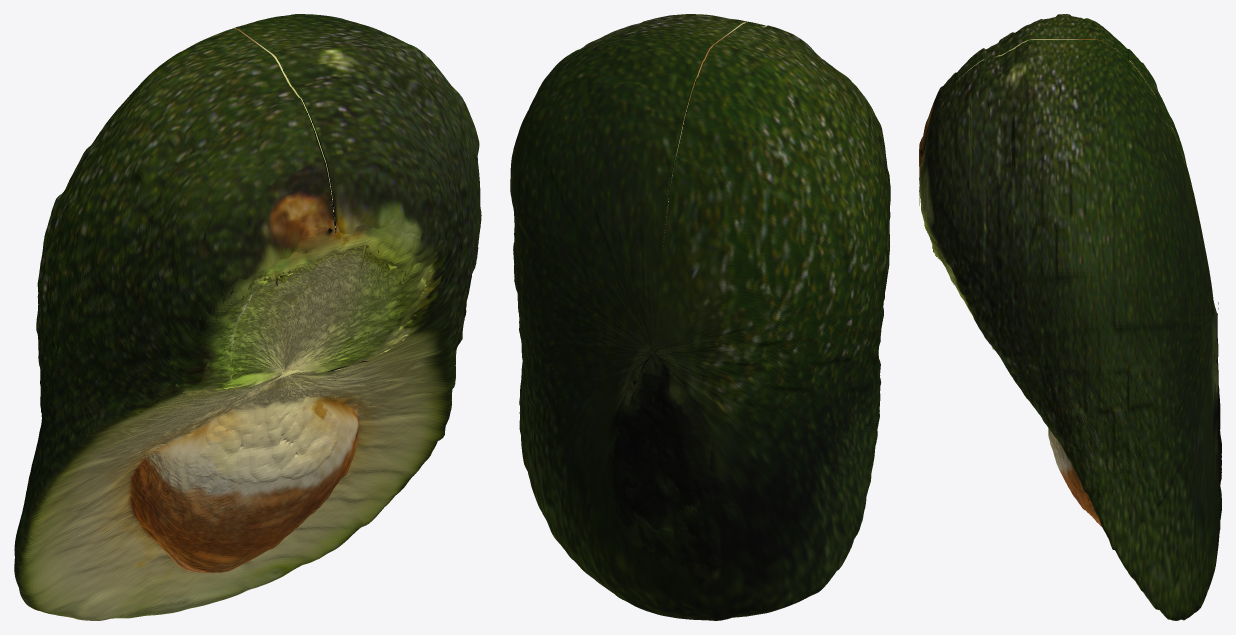
File: mesh_inpaint.glb
3 views of the same model, side by side, from view 1: azimuth 30°, elevation 25°; view 2: azimuth 150°, elevation 25°; view 3: azimuth 270°, elevation 25° (orthographic). The views are drawn at different scales.
Parts seen in each view (by area): view 1: ipn, fill; view 2: ipn, fill; view 3: ipn, fill.
Boxes of the visible parts, <box> form: ipn: <box>14,14,481,620</box>; fill: <box>170,223,448,484</box>; ipn: <box>510,14,890,620</box>; fill: <box>609,343,737,579</box>; ipn: <box>919,14,1220,620</box>; fill: <box>919,135,1221,531</box>.
Size of the model in its own units: 1.44 by 2 by 0.9905.
Materials: 2 (1 with a texture image).
